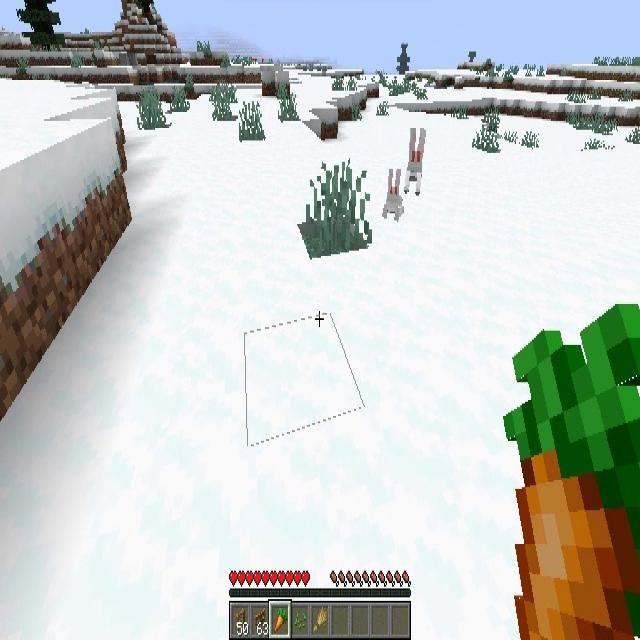rabbit: (404, 126, 426, 195), (382, 167, 404, 221)
